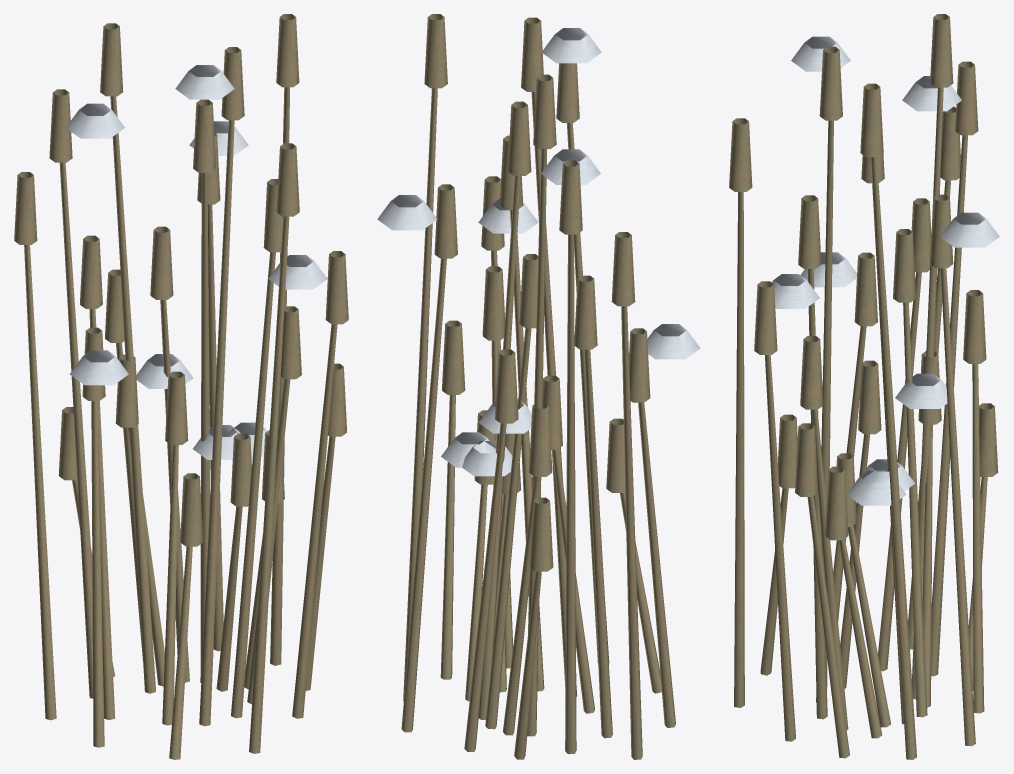
The model's file is reeds.obj.
3 views of the same model, side by side, from view 1: azimuth 30°, elevation 25°; view 2: azimuth 150°, elevation 25°; view 3: azimuth 270°, elevation 25° (orthographic).
Parts seen in each view (by area): view 1: reeds; view 2: reeds; view 3: reeds.
Part boxes in pixels (x1,y1,x2,y2): reeds: (14,14,348,759); reeds: (377,14,700,759); reeds: (729,14,999,759).
Size of the model in its own units: 0.8943 by 2.21 by 0.8129.
3 materials, 3 textured.
